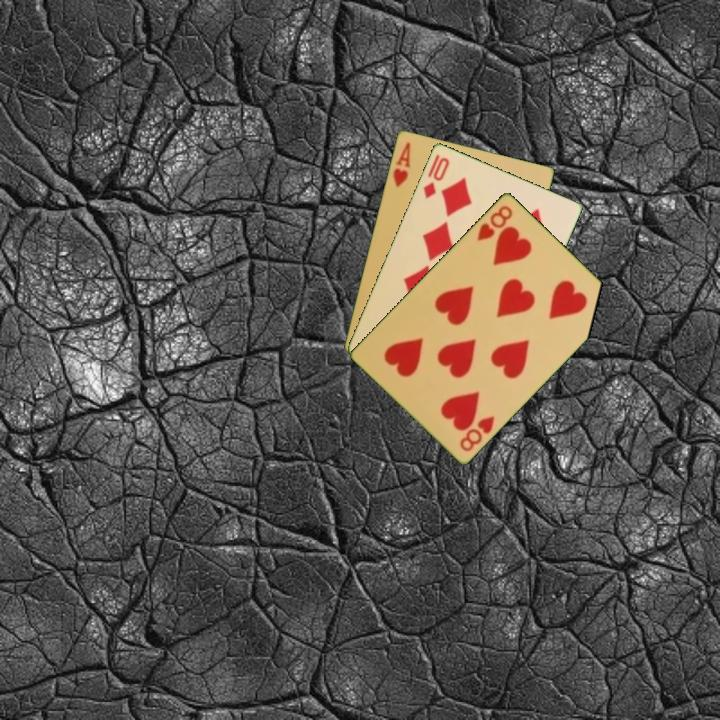10d: (419, 153, 452, 201)
8h: (474, 202, 516, 243), (456, 412, 497, 454)
Ah: (389, 138, 414, 190)
